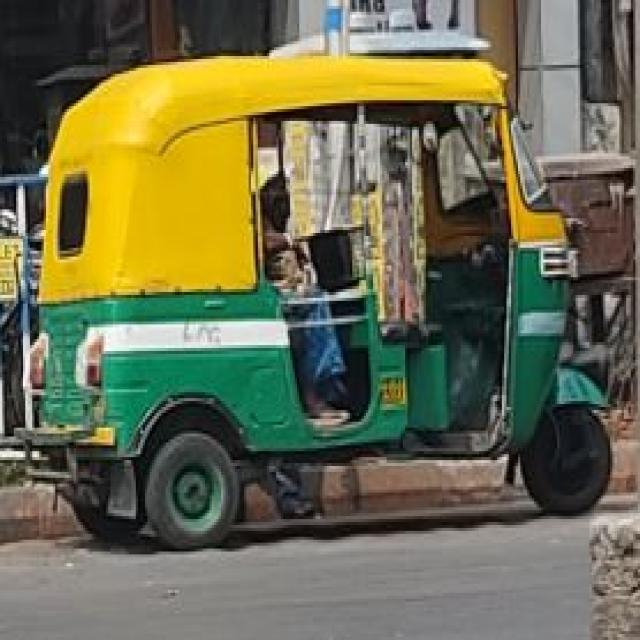autorickshaw: (28, 47, 618, 542)
